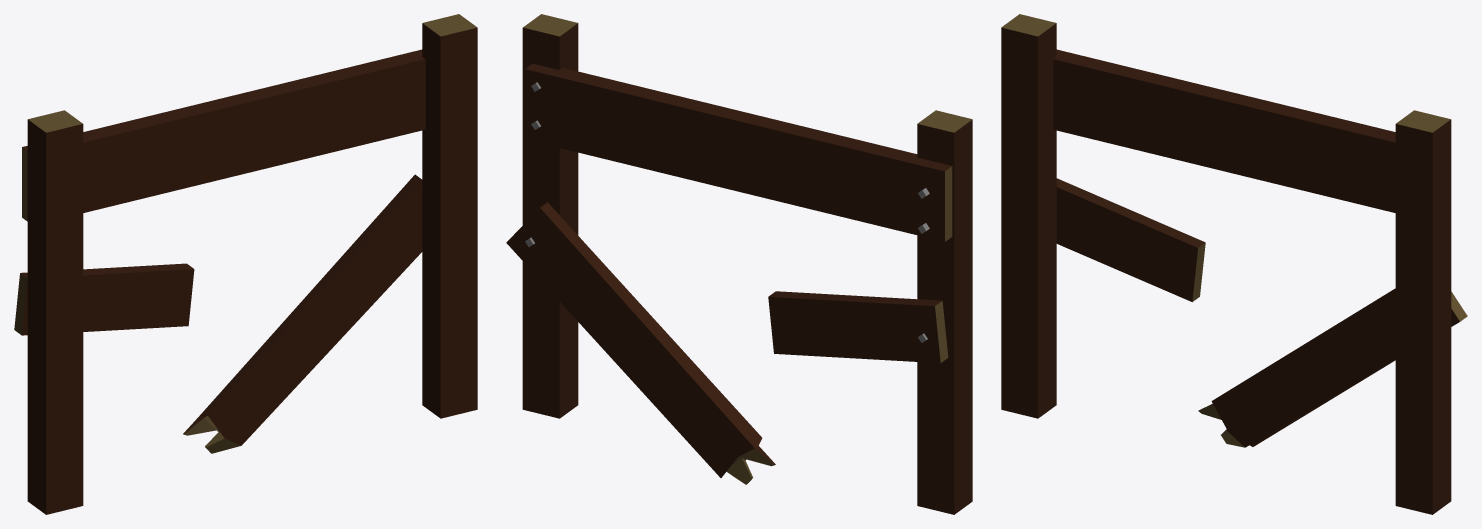
File: fence_broken.fbx
3 renders of one model, left to right at view 1: azimuth 30°, elevation 25°; view 2: azimuth 150°, elevation 25°; view 3: azimuth 330°, elevation 25°, orthographic.
Visible parts, largest first — view 1: polySurface14; view 2: polySurface14; view 3: polySurface14.
Part boxes in pixels (bbox=[...]): polySurface14: bbox=[14, 14, 477, 514]; polySurface14: bbox=[506, 14, 972, 514]; polySurface14: bbox=[1001, 14, 1467, 514].
Size of the model in its own units: 3.99 by 3.43 by 0.5361.
